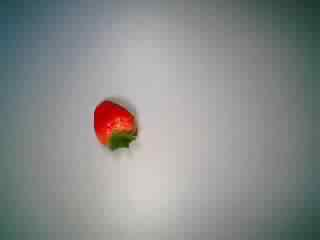strawberry: (79, 94, 145, 160)
